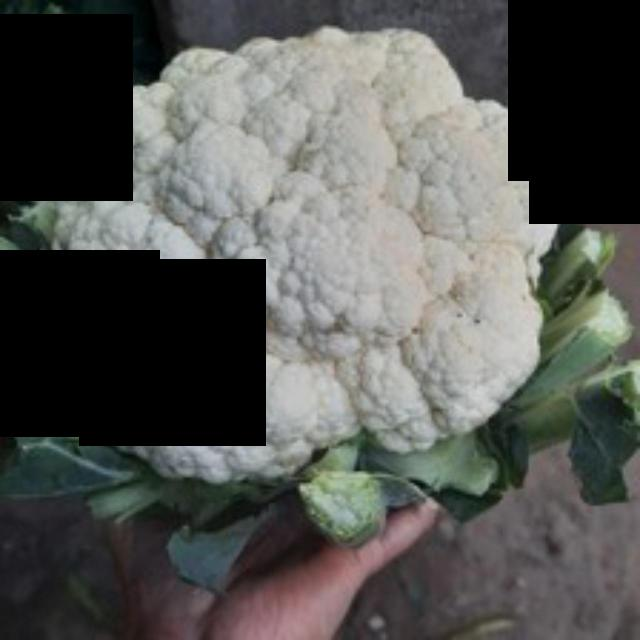cauliflower: (31, 32, 587, 488)
